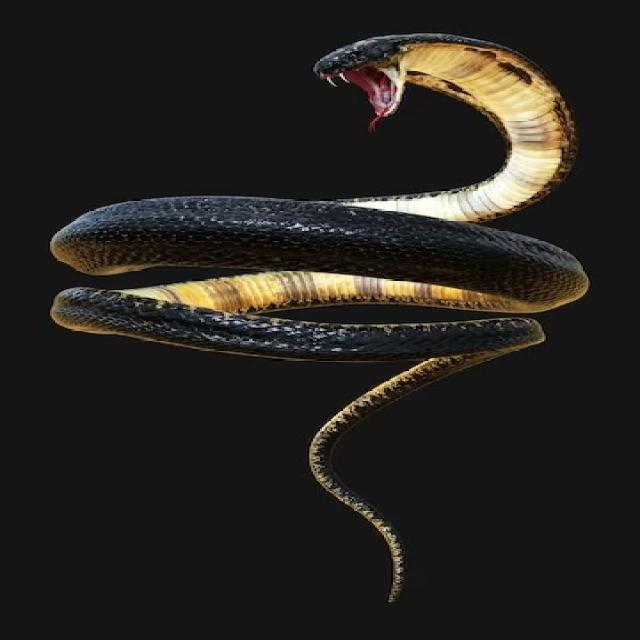Snake: (4, 8, 640, 585)
